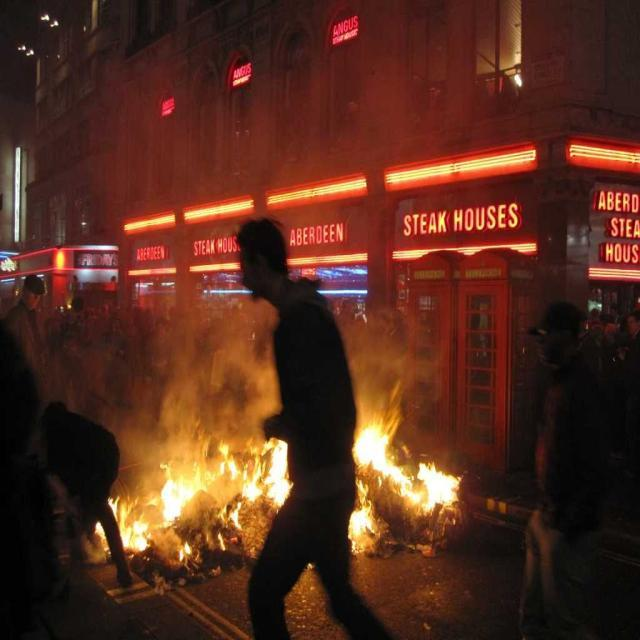Fire: (358, 422, 453, 528), (212, 434, 286, 514), (158, 459, 212, 516), (106, 478, 148, 548)
